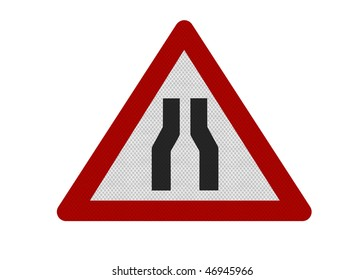narrow-road: (131, 81, 236, 211)
